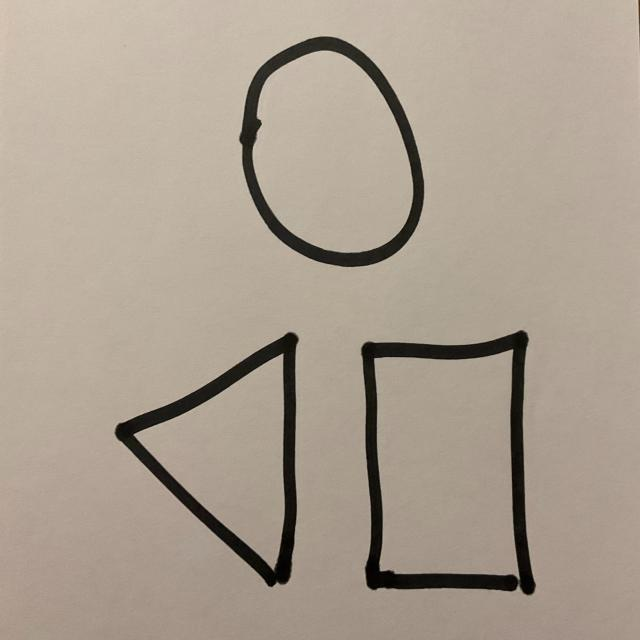Dreieck: (113, 333, 299, 588)
Kreis: (239, 37, 426, 270)
Quadrat: (360, 332, 536, 597)
